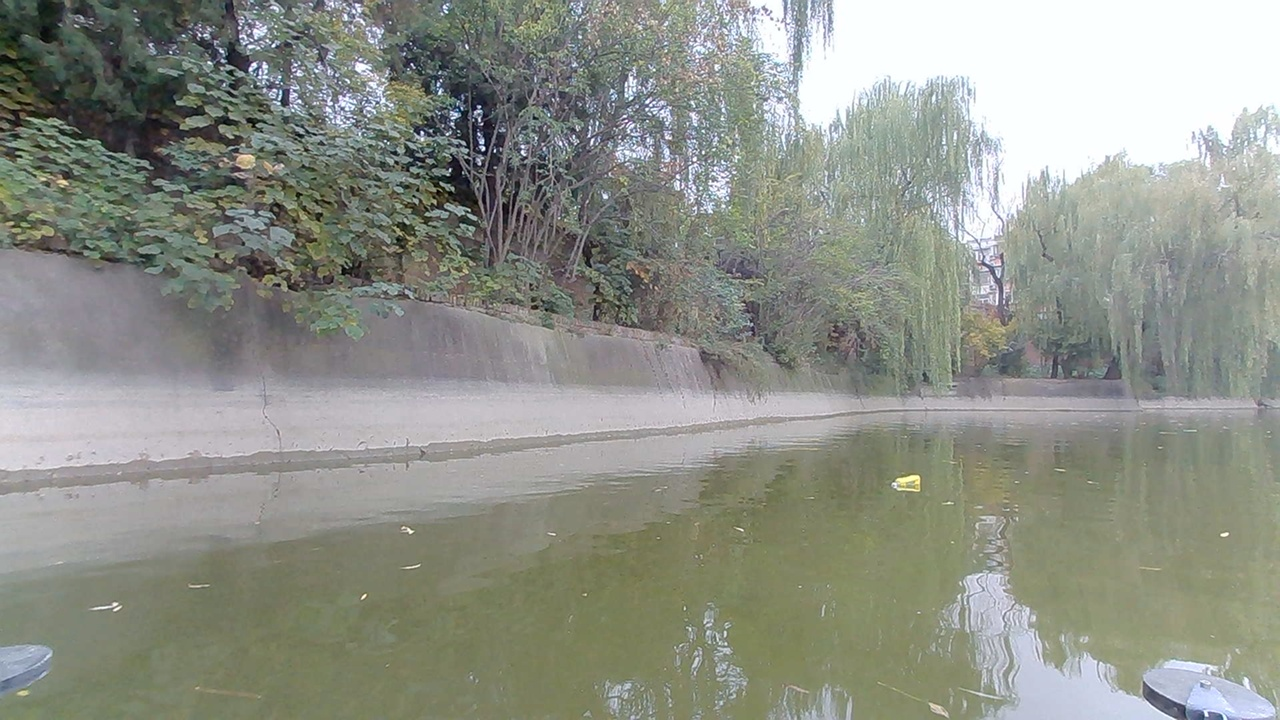bottle: (892, 471, 926, 494)
